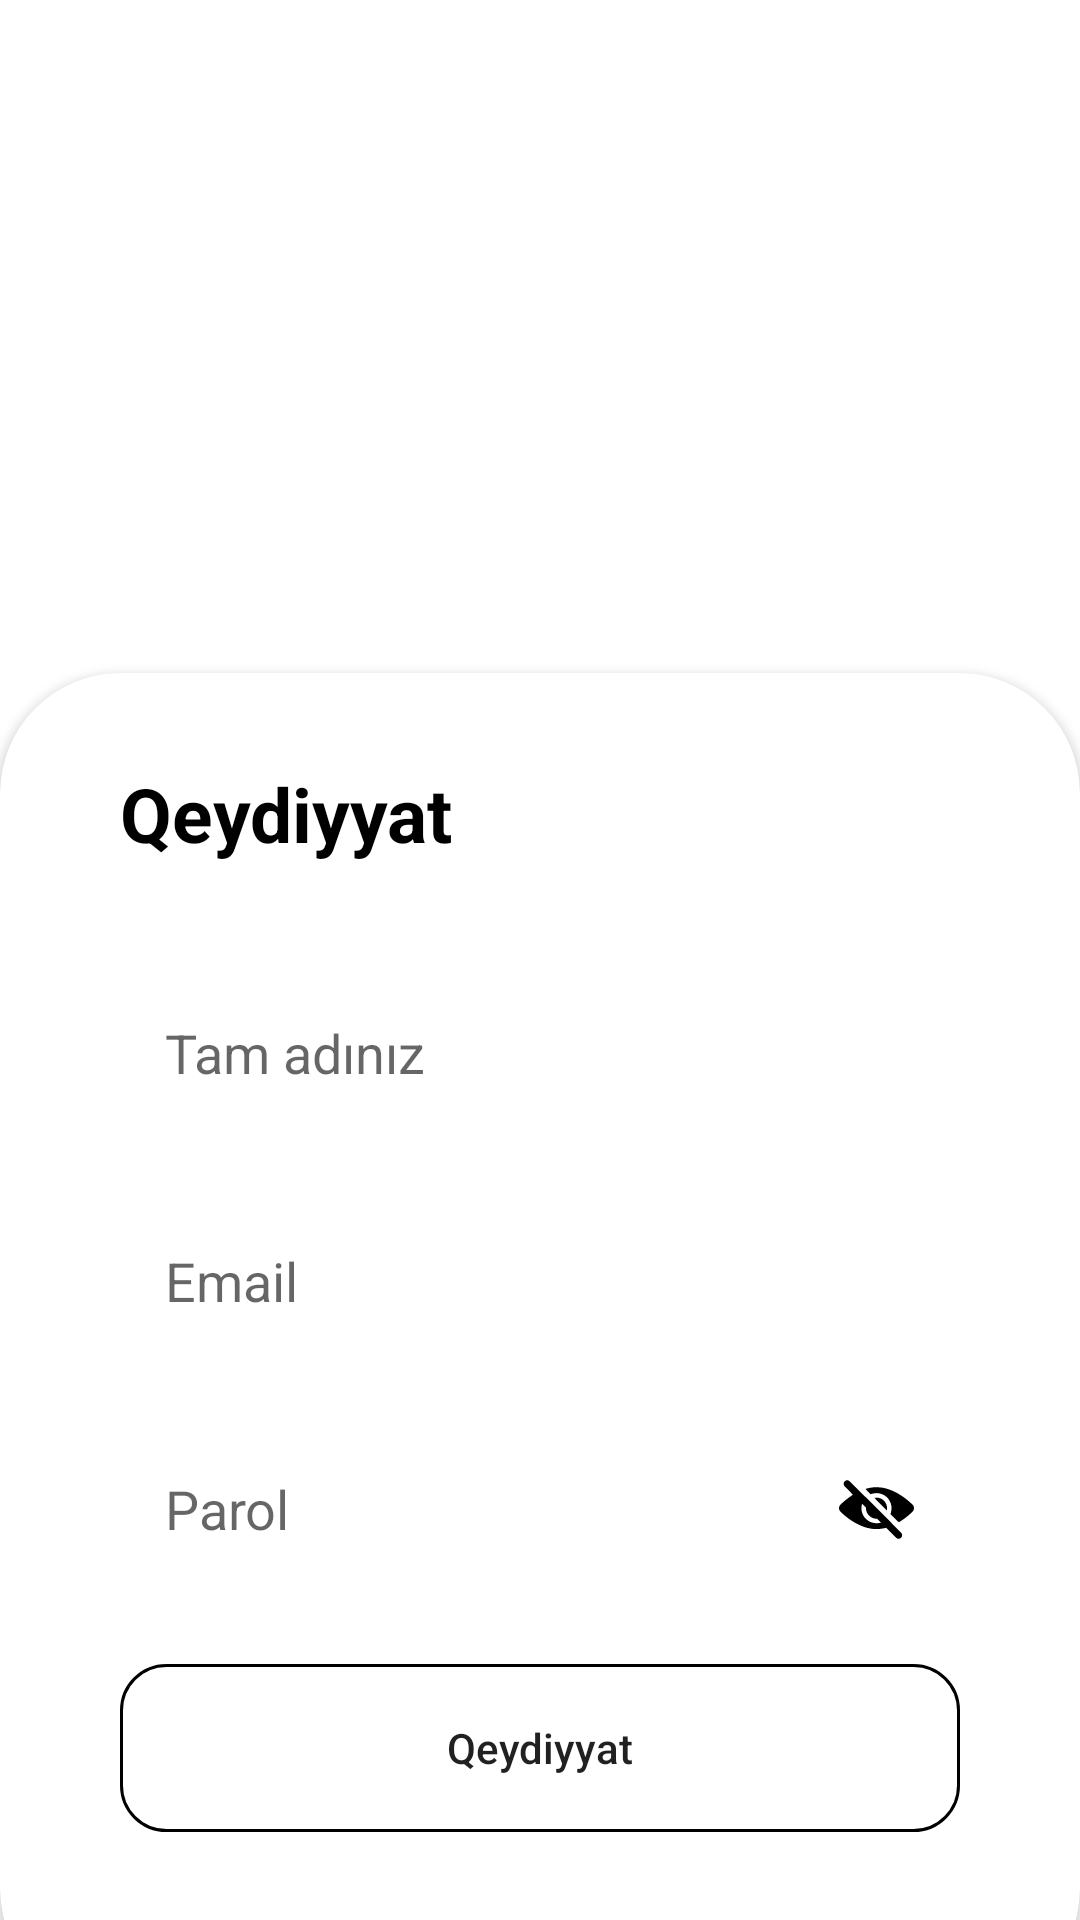

Named icons in this screenshot (1080w x 1920h) and their bounding boxes, [x1=x1, y1=y1, x2=x2, y2=y2]:
hide eye: [x1=839, y1=1480, x2=914, y2=1539]
